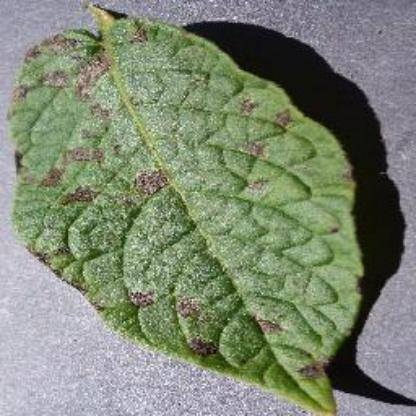Early-Blight: (14, 15, 366, 407)
